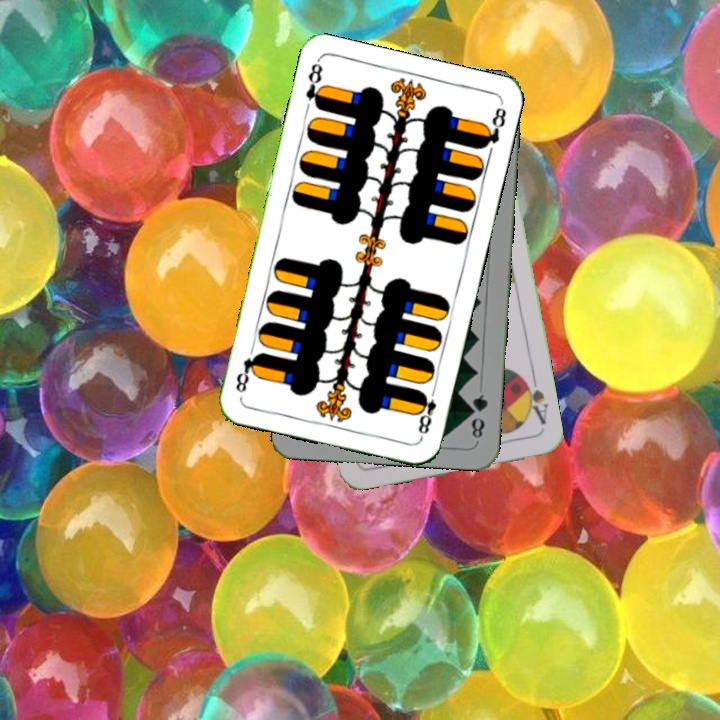E8: (413, 383, 439, 441), (301, 57, 327, 112)
G8: (466, 390, 491, 441)
SA: (518, 373, 551, 427)
